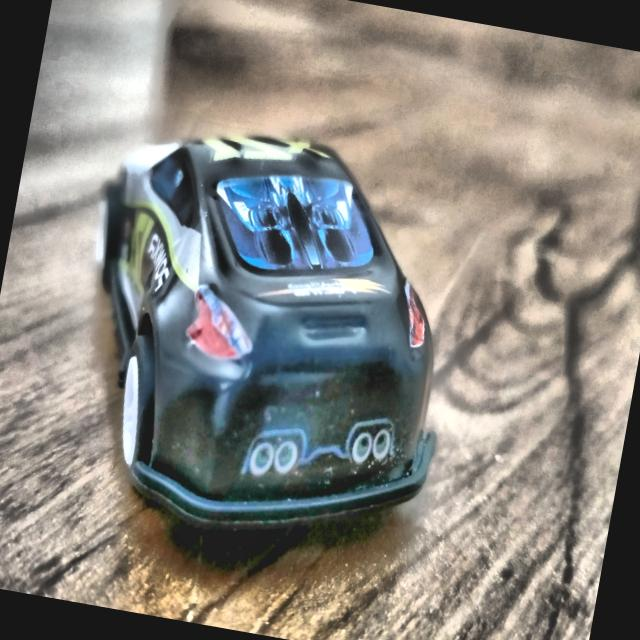Car: (45, 107, 488, 570)
